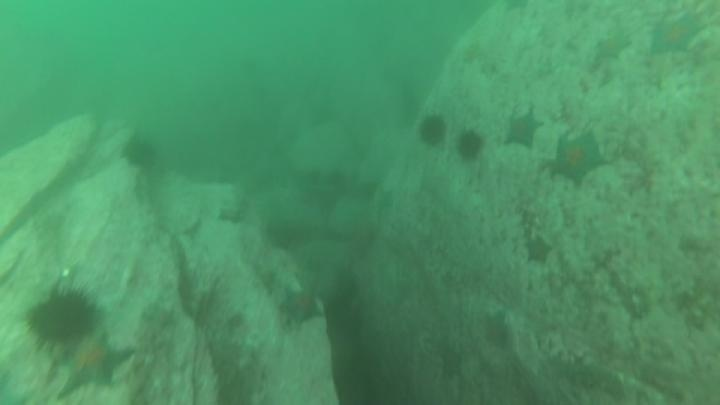echinus: (23, 283, 102, 351), (262, 216, 307, 253), (120, 134, 161, 172), (415, 112, 449, 149), (454, 128, 487, 164)
starfish: (53, 331, 136, 400), (547, 131, 609, 187), (647, 12, 705, 58), (500, 105, 546, 152), (277, 284, 325, 329), (591, 30, 633, 65), (479, 310, 514, 352), (436, 344, 466, 382), (522, 233, 555, 267), (214, 201, 248, 228), (459, 40, 485, 67), (499, 0, 532, 18)
